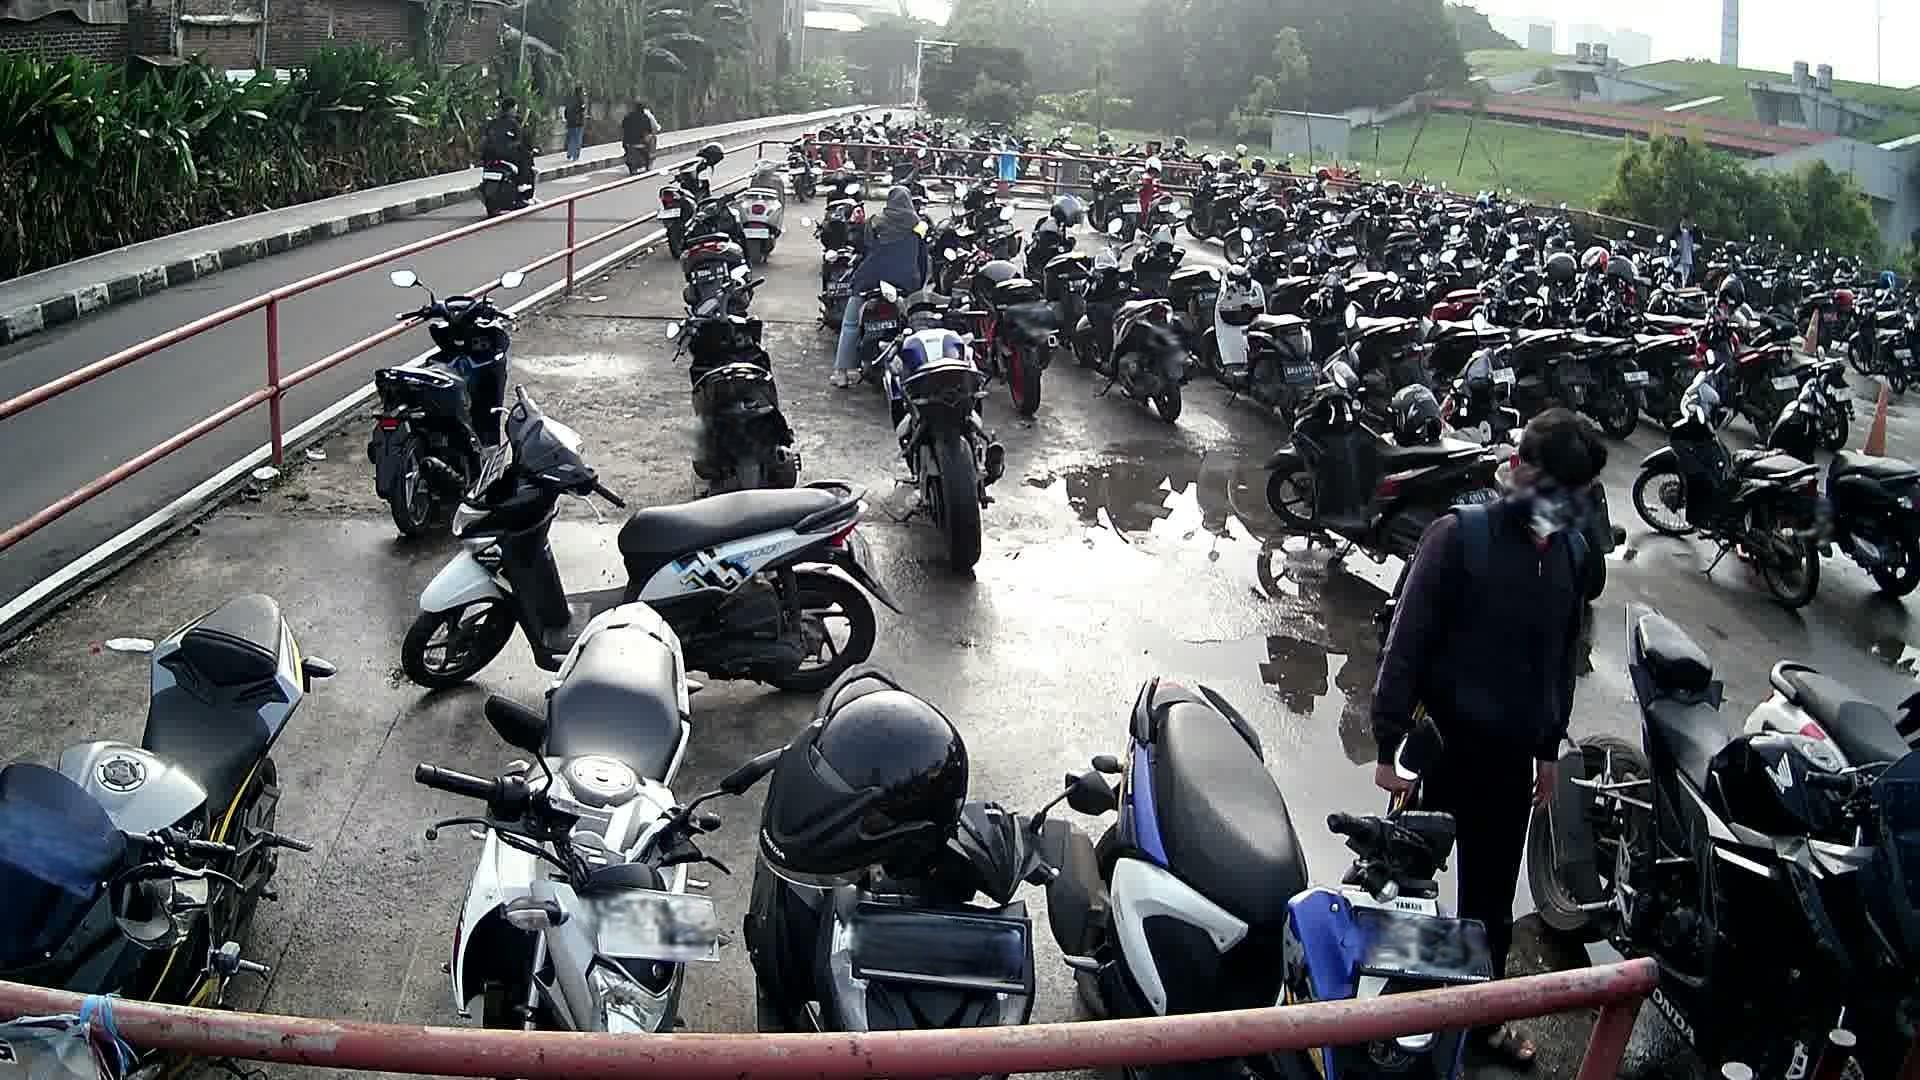motorcycle: (400, 382, 909, 700), (417, 599, 744, 1031), (1042, 673, 1493, 984), (0, 589, 336, 990), (1594, 597, 1920, 959), (749, 665, 1073, 1022), (1635, 367, 1828, 612), (869, 278, 1023, 572), (368, 264, 526, 538), (1263, 349, 1449, 553), (1771, 361, 1920, 595), (666, 277, 811, 485), (1741, 657, 1920, 773)
